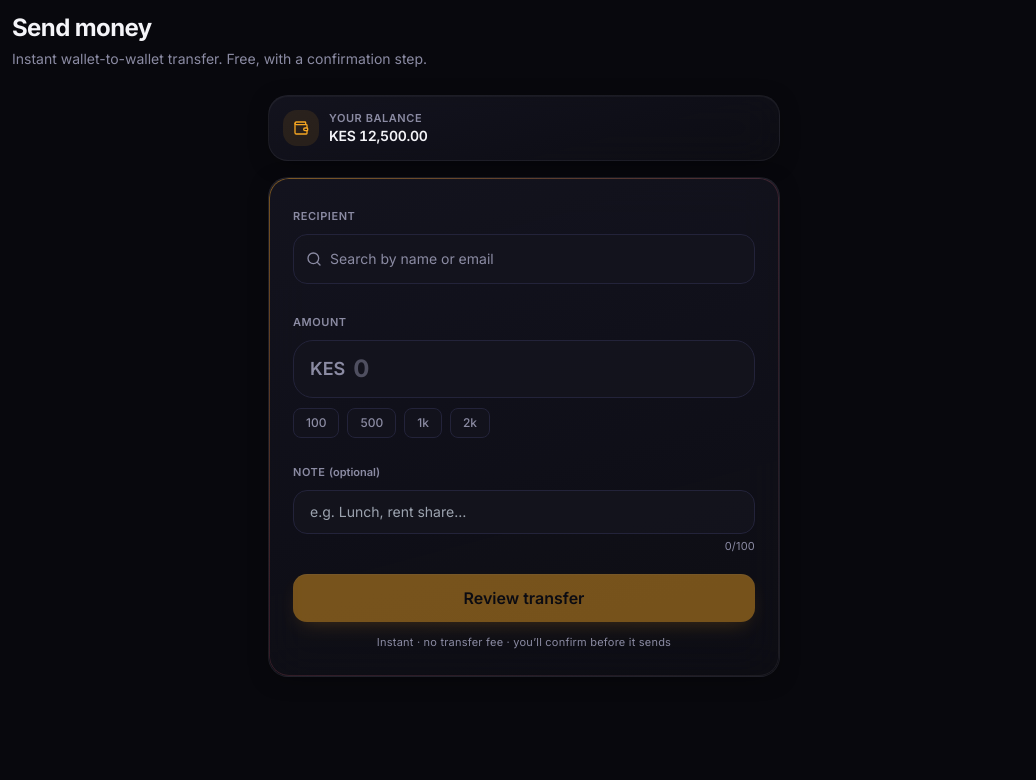
Test: Send Money › prevents a self-transfer
Type "ada" into the field labelled "Recipient". click: (536, 259)
box: [330,235,742,283]
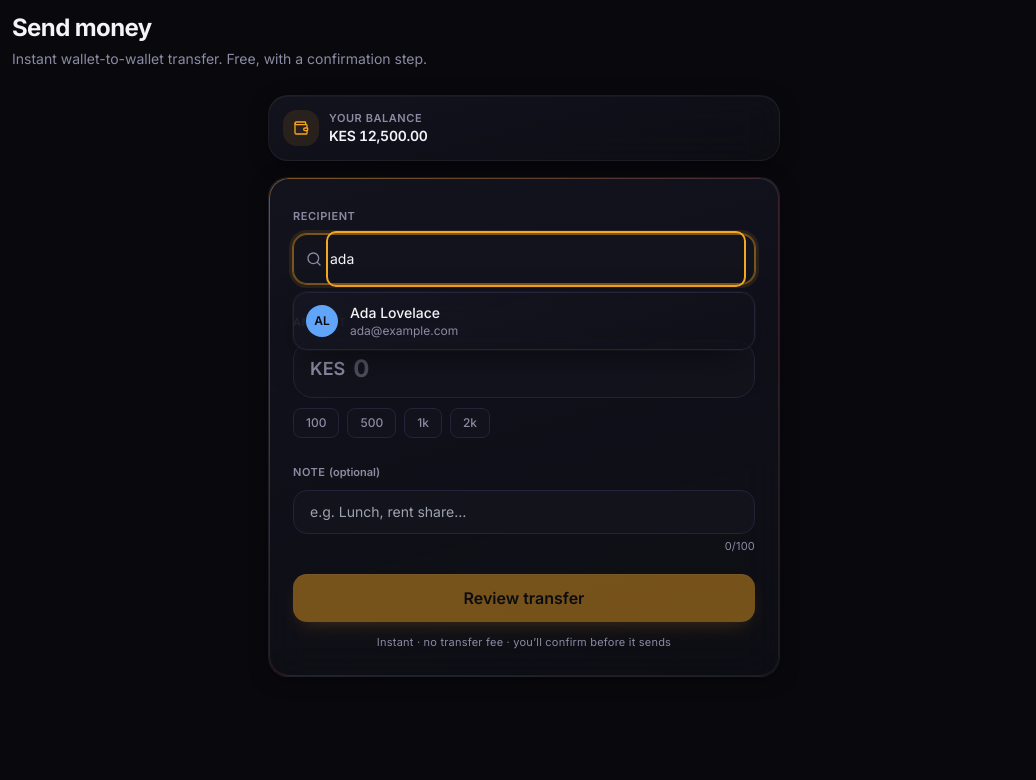
Click the text "Ada Lovelace". click: (395, 312)
box: [350,304,440,321]
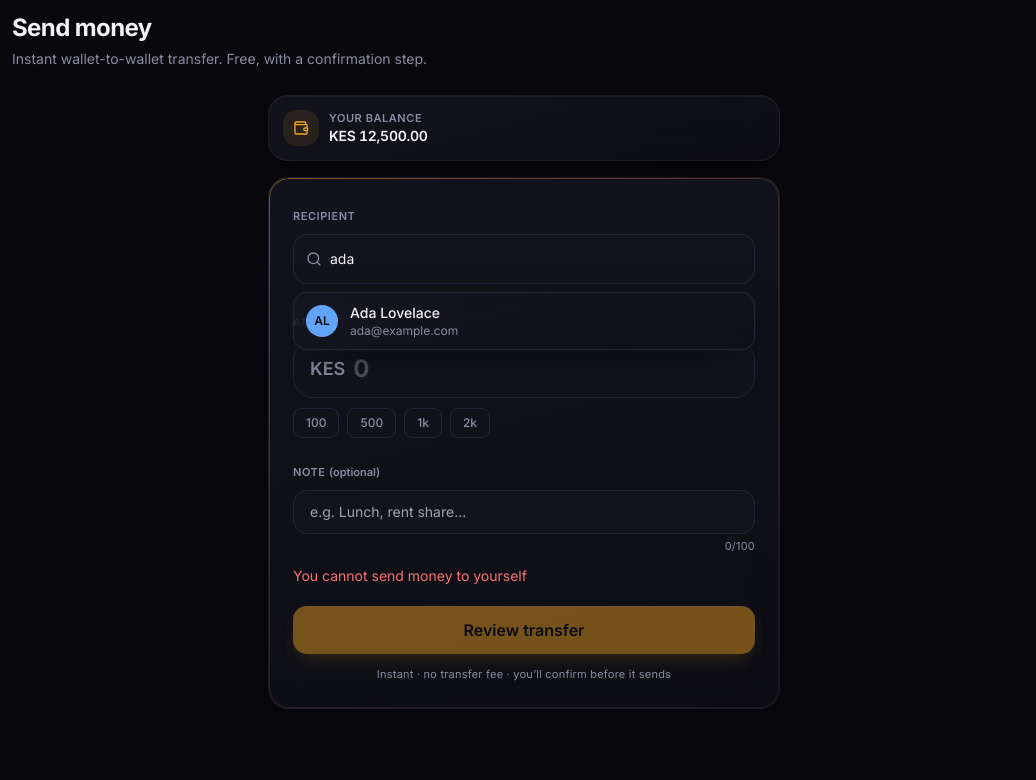
Now the text "You cannot send money to yourself" is shown, box [293,567,527,584]
